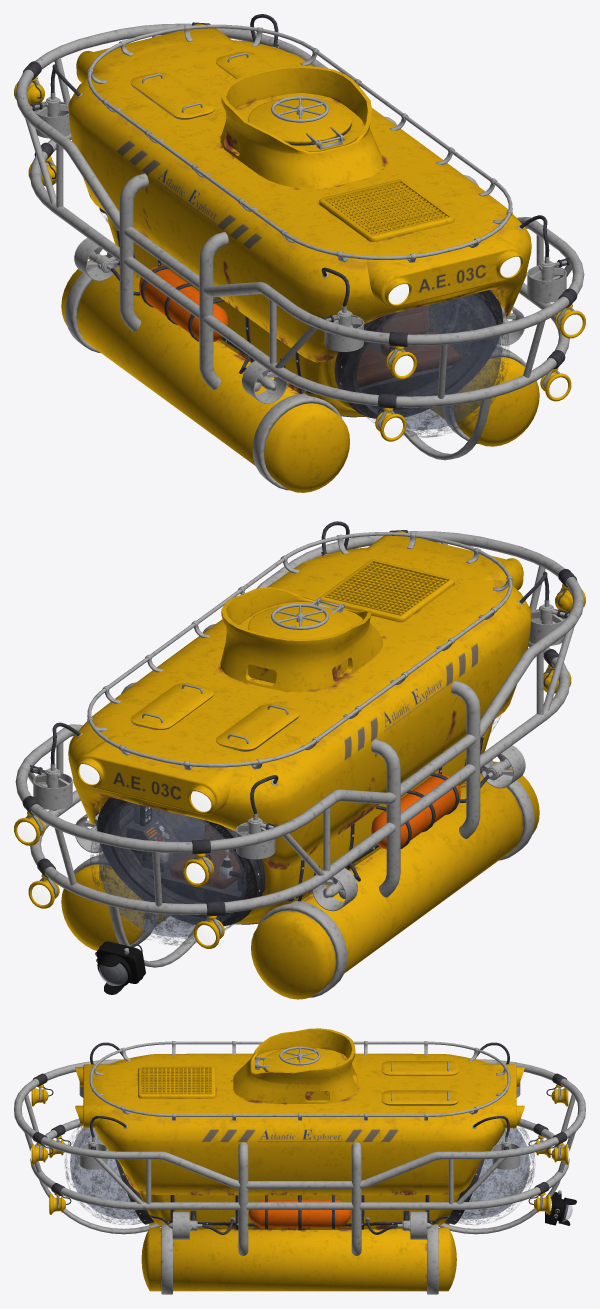
File: atlantic_explorer_vr.glb
The picture shows the model from 3 angles, top to bottom: view 1: azimuth 30°, elevation 25°; view 2: azimuth 150°, elevation 25°; view 3: azimuth 270°, elevation 25°; orthographic projection. The views are drawn at different scales.
Visible parts, largest first — view 1: Hull_Upper, Exterior_Structure, Hull_Lower, Viewport_Passenger, PressureHull_InteriorShell, Exterior_Details, Cabin_Interior, Lights_PassengerEnd, Thruster_PassengerEnd_Starboard_Vertical, Thruster_PassengerEnd_Port_Horizontal, Thruster_PilotEnd_Port_Horizontal, Thruster_PassengerEnd_Port_Vertical (+1 smaller); view 2: Hull_Upper, Exterior_Structure, Hull_Lower, Viewport_Pilot, Exterior_Details, PressureHull_InteriorShell, Cabin_Interior, Lights_PilotEnd, Thruster_PilotEnd_Starboard_Vertical, Thruster_PilotEnd_Port_Horizontal, Thruster_PassengerEnd_Port_Horizontal, Thruster_PilotEnd_Port_Vertical (+1 smaller); view 3: Hull_Upper, Hull_Lower, Exterior_Structure, Exterior_Details, Viewport_Pilot, Viewport_Passenger, PressureHull_InteriorShell, Thruster_PassengerEnd_Starboard_Horizontal, Thruster_PilotEnd_Starboard_Horizontal, Thruster_PassengerEnd_Starboard_Vertical, Thruster_PilotEnd_Starboard_Vertical.
Part boxes in pixels (x1,y1,x2,y2): Hull_Upper: (68,23,531,362); Exterior_Structure: (15,22,584,490); Hull_Lower: (61,51,539,492); Viewport_Passenger: (346,292,509,437); PressureHull_InteriorShell: (105,124,502,418); Exterior_Details: (14,14,585,441); Cabin_Interior: (356,305,459,387); Lights_PassengerEnd: (384,256,582,437); Thruster_PassengerEnd_Starboard_Vertical: (527,256,566,302); Thruster_PassengerEnd_Port_Horizontal: (242,360,287,403); Thruster_PilotEnd_Port_Horizontal: (74,238,118,280); Thruster_PassengerEnd_Port_Vertical: (324,306,363,351); Hull_Upper: (68,531,531,869); Exterior_Structure: (15,530,584,997); Hull_Lower: (61,563,539,999); Viewport_Pilot: (90,799,253,945); Exterior_Details: (14,521,585,994); PressureHull_InteriorShell: (97,720,494,925); Cabin_Interior: (126,804,243,891); Lights_PilotEnd: (17,764,215,945); Thruster_PilotEnd_Starboard_Vertical: (33,764,72,809); Thruster_PilotEnd_Port_Horizontal: (312,868,357,911); Thruster_PassengerEnd_Port_Horizontal: (481,745,525,788); Thruster_PilotEnd_Port_Vertical: (236,813,275,859); Hull_Upper: (75,1028,524,1195); Hull_Lower: (139,1061,460,1291); Exterior_Structure: (14,1041,585,1294); Exterior_Details: (31,1041,576,1234); Viewport_Pilot: (457,1123,535,1224); Viewport_Passenger: (64,1123,142,1224); PressureHull_InteriorShell: (115,1069,484,1224); Thruster_PassengerEnd_Starboard_Horizontal: (168,1211,202,1239); Thruster_PilotEnd_Starboard_Horizontal: (397,1211,431,1239); Thruster_PassengerEnd_Starboard_Vertical: (79,1137,107,1169); Thruster_PilotEnd_Starboard_Vertical: (492,1137,520,1169).
Size of the model in its own units: 3.24 by 3.28 by 8.11.
Materials: 8 (8 with a texture image).
